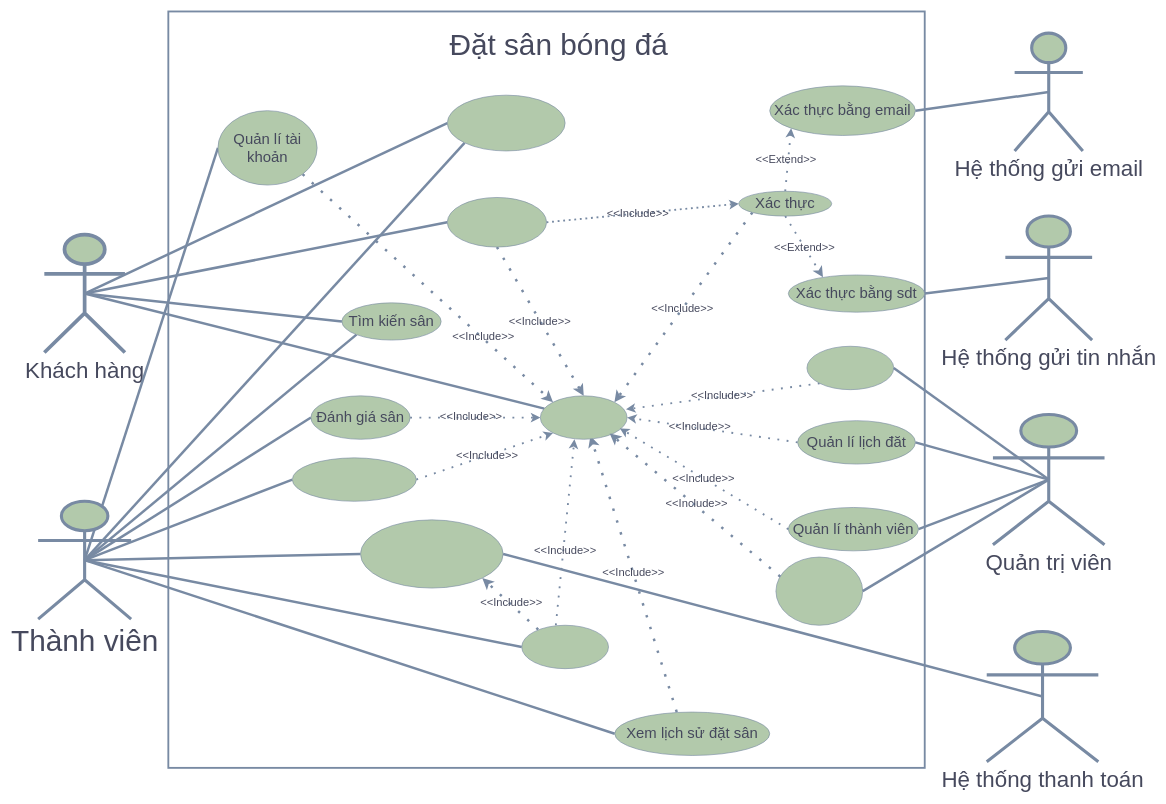
This 1166x804 diagram has some shape labels left out. The box of each missing label's shape, as (x1, y1, x2, y2) in pixels:
Hủy lịch đặt sân: (292, 457, 416, 501)
Quản lí sân: (806, 346, 894, 390)
Thanh toán bằng ví điện tử: (360, 519, 503, 588)
Xem báo cáo doanh thu: (775, 556, 863, 625)
Xem thông tin sân: (447, 95, 565, 151)
Đăng kí: (447, 197, 547, 247)
Đăng nhập: (540, 395, 627, 439)
Đặt sân: (521, 625, 609, 669)
